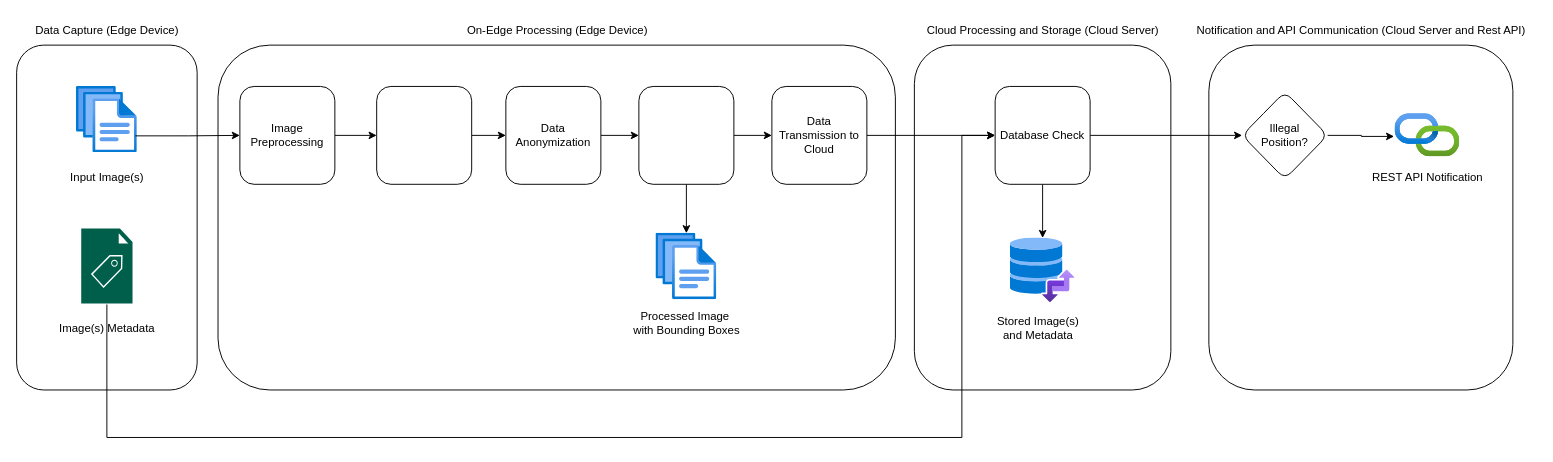
The diagram is 1553 pixels wide and 462 high, and some of its shapes have lost their labels. The centre of each missing label's shape, as x and y in pixels:
Data Minimalization: (x=686, y=135)
Pretrained YOLO Object Detection: (x=424, y=135)
